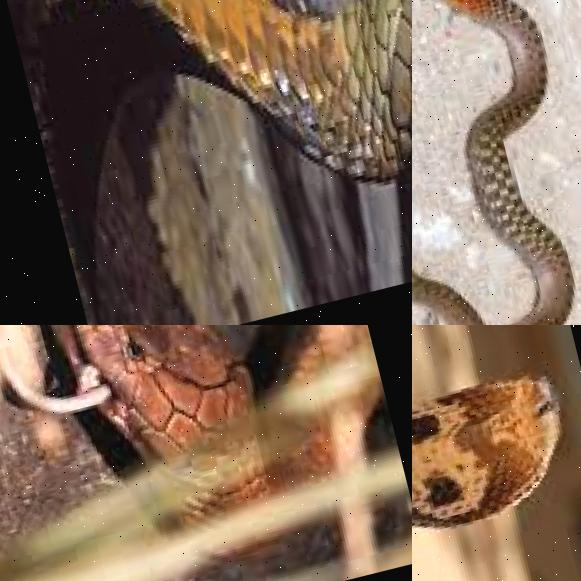snake: (0, 0, 412, 325), (43, 325, 412, 581), (412, 0, 581, 325), (412, 325, 581, 581)
